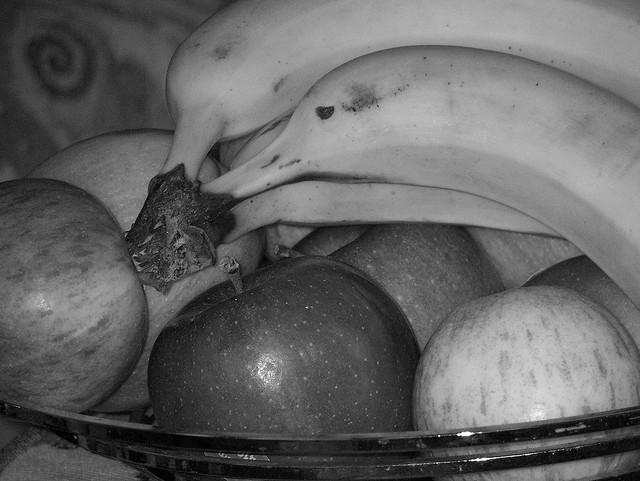apple: (23, 128, 262, 412), (148, 256, 422, 434), (412, 285, 640, 479), (0, 178, 170, 414), (270, 223, 507, 354), (521, 254, 640, 350), (462, 225, 584, 291), (263, 221, 319, 263)
banana: (201, 44, 640, 311), (153, 0, 640, 189), (199, 181, 569, 243), (229, 105, 297, 172), (220, 131, 258, 170)
